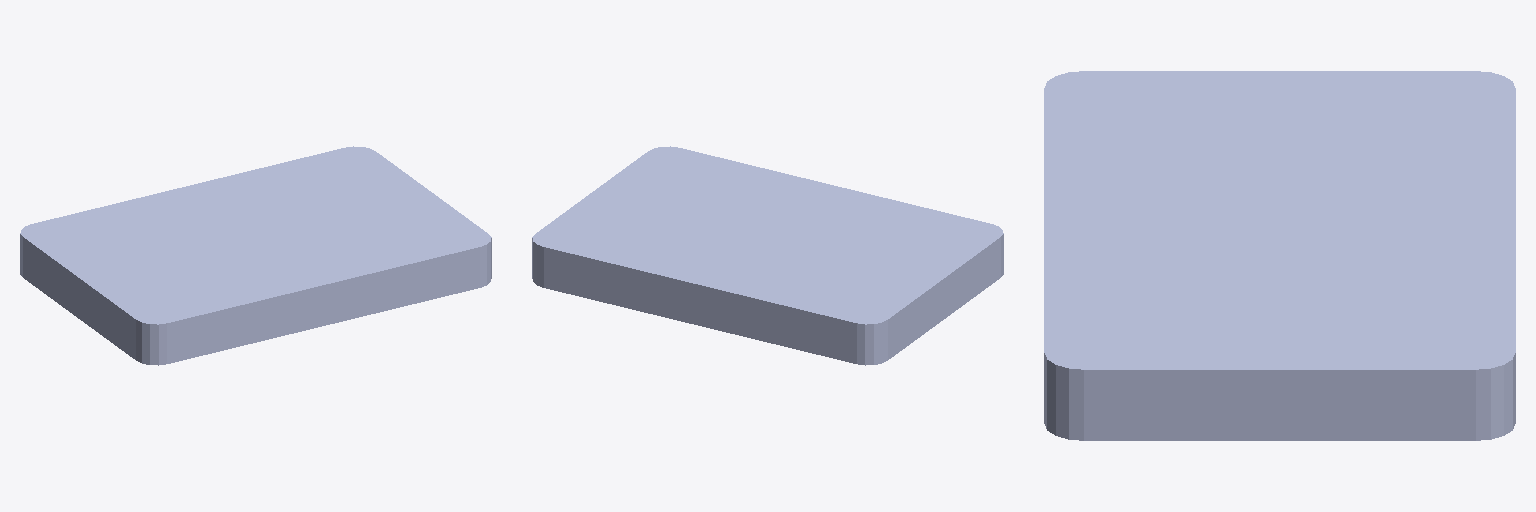
URDF robot description (Assem1):
<?xml version="1.0" encoding="utf-8"?>
<!-- This URDF was automatically created by SolidWorks to URDF Exporter! Originally created by [author] ([email redacted]) 
     Commit Version: 1.6.0-4-g7f85cfe  Build Version: 1.6.7995.38578
     For more information, please see http://wiki.ros.org/sw_urdf_exporter -->
<robot
  name="Assem1">
  <link
    name="base_link">
    <inertial>
      <origin
        xyz="0.165170623393482 0.263460631790959 0.336941651545333"
        rpy="0 0 0" />
      <mass
        value="7.05107809575261" />
      <inertia
        ixx="0.0557167324701859"
        ixy="-1.06912361177625E-18"
        ixz="-3.81164826264435E-18"
        iyy="0.176116658760726"
        iyz="-1.20792690657657E-18"
        izz="0.12343264198671" />
    </inertial>
    <visual>
      <origin
        xyz="0 0 0"
        rpy="0 0 0" />
      <geometry>
        <mesh
          filename="package://Assem1/meshes/base_link.STL" />
      </geometry>
      <material
        name="">
        <color
          rgba="0.792156862745098 0.819607843137255 0.933333333333333 1" />
      </material>
    </visual>
    <collision>
      <origin
        xyz="0 0 0"
        rpy="0 0 0" />
      <geometry>
        <mesh
          filename="package://Assem1/meshes/base_link.STL" />
      </geometry>
    </collision>
  </link>
</robot>

--- Facts derived from the render (not from the file) ---
Views: 3 orthographic renders of the robot side by side, from view 1: azimuth 30°, elevation 25°; view 2: azimuth 150°, elevation 25°; view 3: azimuth 270°, elevation 25°.
Robot: Assem1 — 1 links, 0 joints (none); root link base_link; default pose: every joint at zero.
Visible links, largest first — view 1: base_link; view 2: base_link; view 3: base_link.
Link boxes in pixels (x1,y1,x2,y2): base_link: (20, 146, 491, 365); base_link: (532, 146, 1003, 365); base_link: (1044, 71, 1515, 440).
Size in the robot's own frame: 0.4572 by 0.3048 by 0.0508 metres.
Meshes: 1 distinct files referenced, 1 mesh visuals loaded (1 binary STL).
